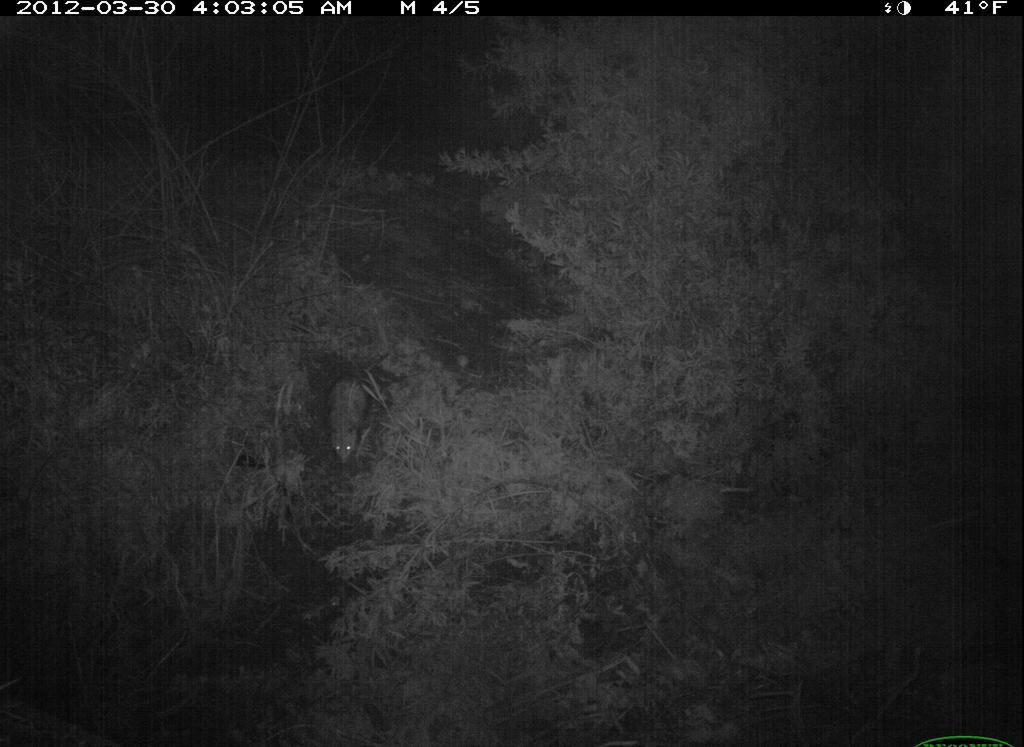opossum: (315, 353, 399, 475)
